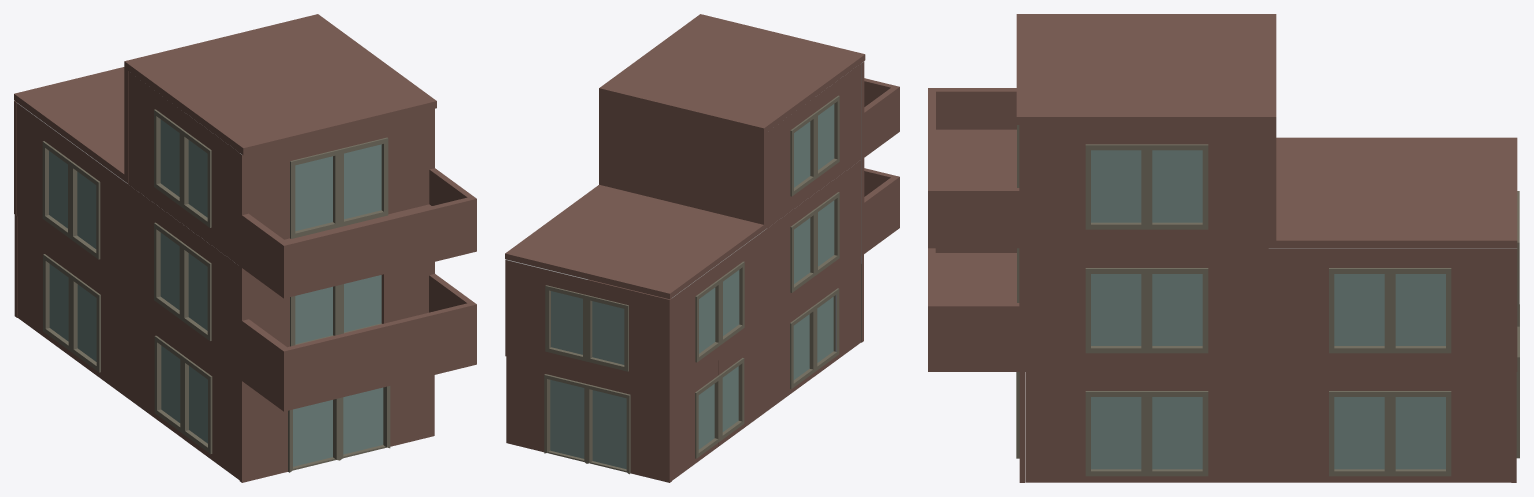
File: BuildingE_01.fbx
3 views of the same model, side by side, from view 1: azimuth 30°, elevation 25°; view 2: azimuth 150°, elevation 25°; view 3: azimuth 270°, elevation 25° (orthographic). The views are drawn at different scales.
Parts seen in each view (by area): view 1: window01 (×3), window02 (×3), roof02, fronDoor_01, window04, window08, window03, window07, fronDoor_02, window10, window12, window11 (+1 smaller); view 2: roof02, window01 (×4), window02 (×2), backDoor_01, backDoor_02, window03, window07, window08, window04, window11, window09, window12 (+1 smaller); view 3: roof02, window02 (×3), window01 (×4), window03, window04, window05, window06, window11, window09, window10, window12, backDoor_02 (+1 smaller).
Part boxes in pixels (x1,y1,x2,y2): window01 (×3): [17, 103, 380, 411]; window02 (×3): [70, 108, 476, 387]; roof02: [14, 14, 436, 183]; fronDoor_01: [239, 379, 339, 482]; window04: [182, 225, 239, 378]; window08: [182, 112, 239, 265]; window03: [128, 184, 183, 337]; window07: [128, 71, 183, 224]; fronDoor_02: [340, 375, 434, 460]; window10: [71, 257, 128, 398]; window12: [182, 339, 239, 479]; window11: [128, 298, 184, 439]; roof02: [505, 14, 865, 299]; window01 (×4): [505, 61, 899, 394]; window02 (×2): [586, 229, 766, 396]; backDoor_01: [586, 376, 671, 482]; backDoor_02: [506, 356, 587, 463]; window03: [766, 194, 815, 324]; window07: [767, 98, 815, 228]; window08: [814, 63, 861, 193]; window04: [814, 160, 861, 290]; window11: [766, 291, 815, 411]; window09: [672, 361, 720, 480]; window12: [813, 256, 861, 376]; roof02: [1016, 14, 1517, 247]; window02 (×3): [928, 125, 1268, 371]; window01 (×4): [928, 88, 1519, 371]; window03: [1268, 248, 1390, 371]; window04: [1390, 248, 1511, 371]; window05: [1025, 125, 1146, 248]; window06: [1147, 125, 1268, 248]; window11: [1268, 371, 1390, 482]; window09: [1025, 371, 1146, 482]; window10: [1147, 371, 1268, 482]; window12: [1390, 372, 1511, 482]; backDoor_02: [1511, 331, 1519, 482].
Size of the model in its own units: 9.18 by 14.99 by 21.95.
